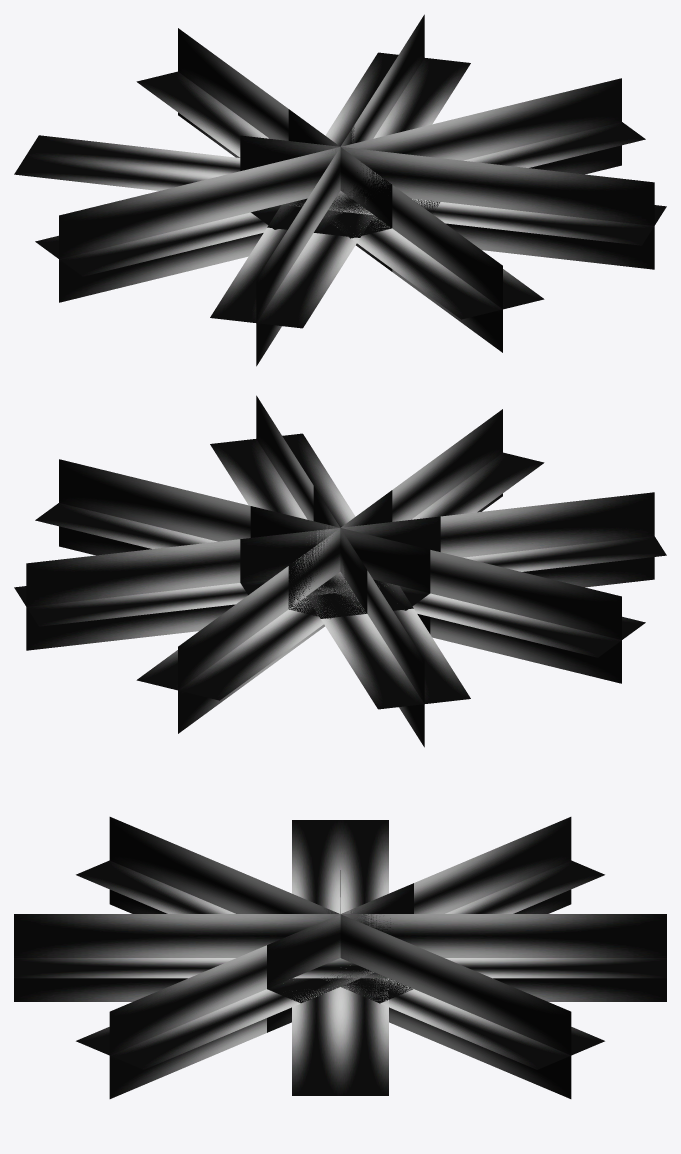
Rendered from vfx_kurp_0231.dae.
3 views of the same model, one above another, from view 1: azimuth 30°, elevation 25°; view 2: azimuth 150°, elevation 25°; view 3: azimuth 270°, elevation 25° (orthographic).
Parts seen in each view (by area): view 1: vfx_kurp_0231; view 2: vfx_kurp_0231; view 3: vfx_kurp_0231.
Boxes of the visible parts, x1,y1,x2,y2 form: vfx_kurp_0231: [14, 14, 666, 366]; vfx_kurp_0231: [14, 395, 666, 747]; vfx_kurp_0231: [14, 817, 666, 1098].
Size of the model in its own units: 12.4 by 12.4 by 1.84.
Materials: 1 (1 with a texture image).
